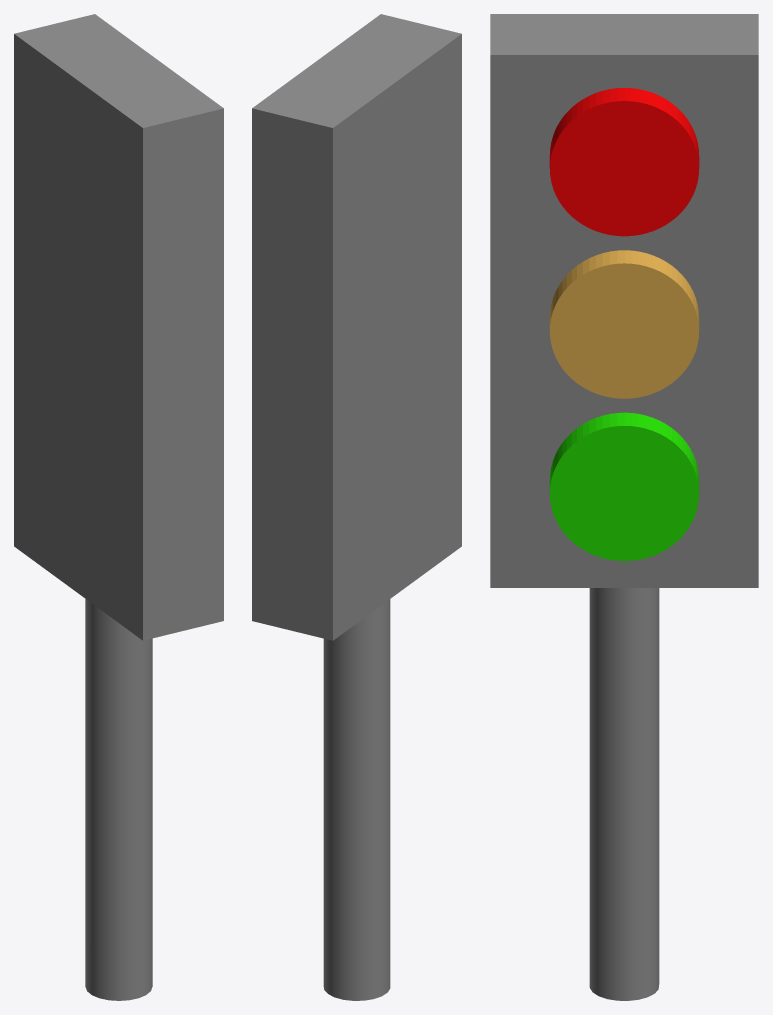
The model's file is semaphore.fbx.
3 renders of one model, left to right at view 1: azimuth 30°, elevation 25°; view 2: azimuth 150°, elevation 25°; view 3: azimuth 270°, elevation 25°, orthographic. The views are drawn at different scales.
Visible parts, largest first — view 1: Semaphore; view 2: Semaphore; view 3: Semaphore.
Part boxes in pixels (x1,y1,x2,y2): Semaphore: (14, 14, 223, 1000); Semaphore: (252, 14, 461, 1000); Semaphore: (490, 14, 758, 1000).
Size of the model in its own units: 200 by 784 by 95.86.
